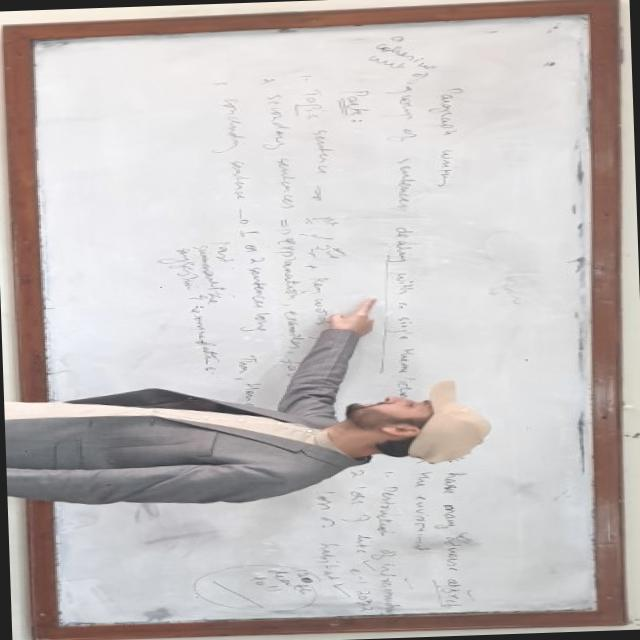Instructor: (2, 361, 500, 512)
White-board: (19, 7, 609, 636)
